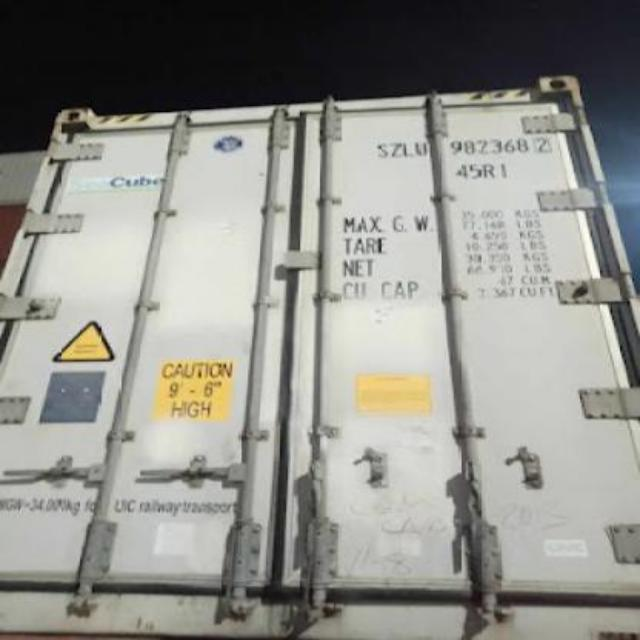2: (532, 132, 554, 156), (478, 136, 490, 158)
3: (488, 133, 504, 157)
6: (504, 132, 518, 158)
8: (516, 132, 530, 158), (464, 136, 476, 158)
9: (450, 135, 462, 161)
L: (402, 138, 412, 164)
S: (374, 140, 388, 162)
U: (414, 135, 430, 165)
Z: (390, 138, 402, 158)
